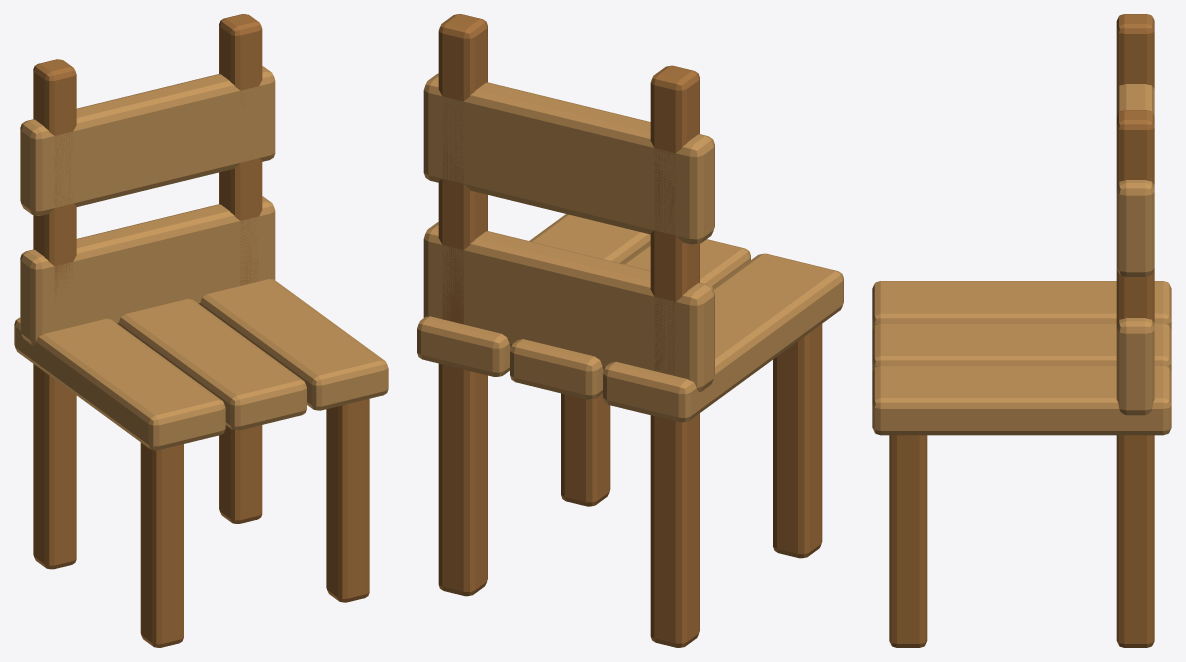
Rendered from 18_wooden_chair.glb.
3 views of the same model, side by side, from view 1: azimuth 30°, elevation 25°; view 2: azimuth 150°, elevation 25°; view 3: azimuth 270°, elevation 25° (orthographic). The views are drawn at different scales.
Visible parts, largest first — view 1: Back board.005, Back board.004, Seat plank.006, Chair post.009, Seat plank.008, Seat plank.007, Chair post.011, Chair post.008, Chair post.010; view 2: Back board.005, Back board.004, Chair post.011, Chair post.009, Seat plank.006, Chair post.008, Seat plank.008, Seat plank.007, Chair post.010; view 3: Seat plank.008, Chair post.011, Seat plank.007, Seat plank.006, Chair post.010, Back board.005, Back board.004, Chair post.009.
Part boxes in pixels (x1,y1,x2,y2): Back board.005: [20, 66, 275, 215]; Back board.004: [20, 196, 275, 345]; Seat plank.006: [14, 317, 225, 450]; Chair post.009: [33, 59, 76, 569]; Seat plank.008: [200, 279, 388, 410]; Seat plank.007: [118, 299, 306, 430]; Chair post.011: [219, 14, 262, 523]; Chair post.008: [140, 442, 183, 647]; Chair post.010: [326, 399, 369, 602]; Back board.005: [423, 73, 714, 244]; Back board.004: [423, 222, 714, 392]; Chair post.011: [438, 14, 487, 596]; Chair post.009: [650, 65, 699, 647]; Seat plank.006: [603, 253, 843, 422]; Chair post.008: [773, 324, 822, 558]; Seat plank.008: [417, 214, 650, 376]; Seat plank.007: [510, 239, 750, 399]; Chair post.010: [561, 393, 610, 506]; Seat plank.008: [872, 365, 1171, 435]; Chair post.011: [1116, 110, 1154, 647]; Seat plank.007: [872, 323, 1171, 372]; Seat plank.006: [872, 281, 1171, 329]; Chair post.010: [889, 435, 927, 647]; Back board.005: [1116, 84, 1154, 276]; Back board.004: [1116, 318, 1154, 415]; Chair post.009: [1116, 14, 1154, 88].
Size of the model in its own units: 0.55 by 1.07 by 0.55.
